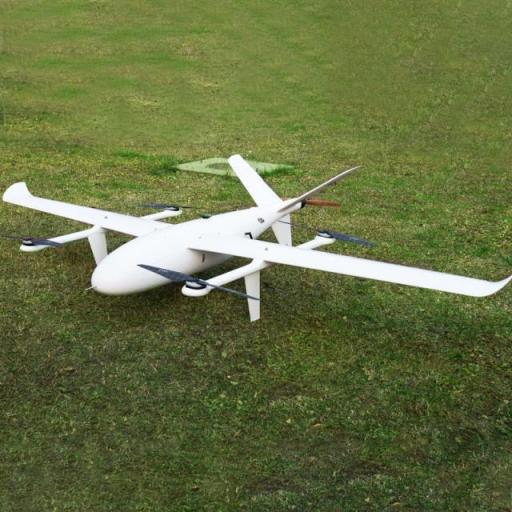uav: (6, 154, 512, 314)
